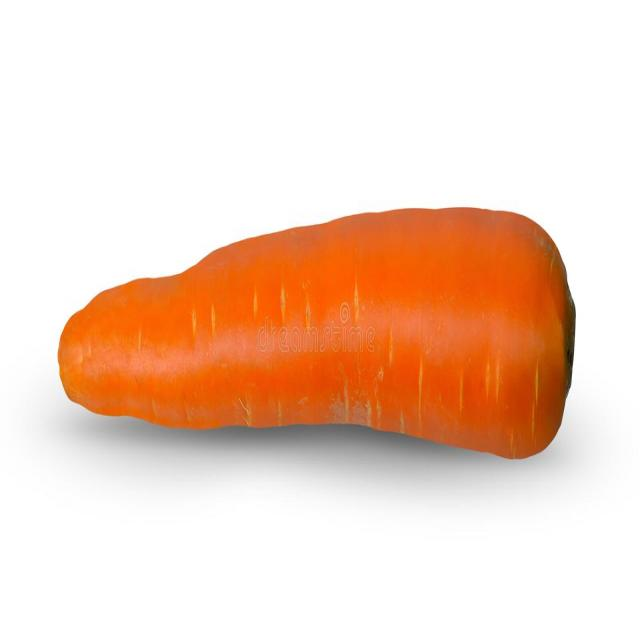Carrot: (45, 200, 576, 475)
